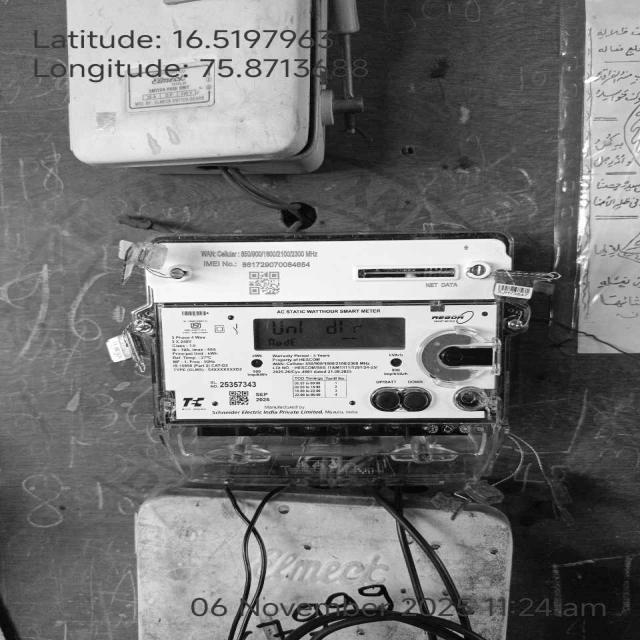meter: (147, 240, 500, 417)
